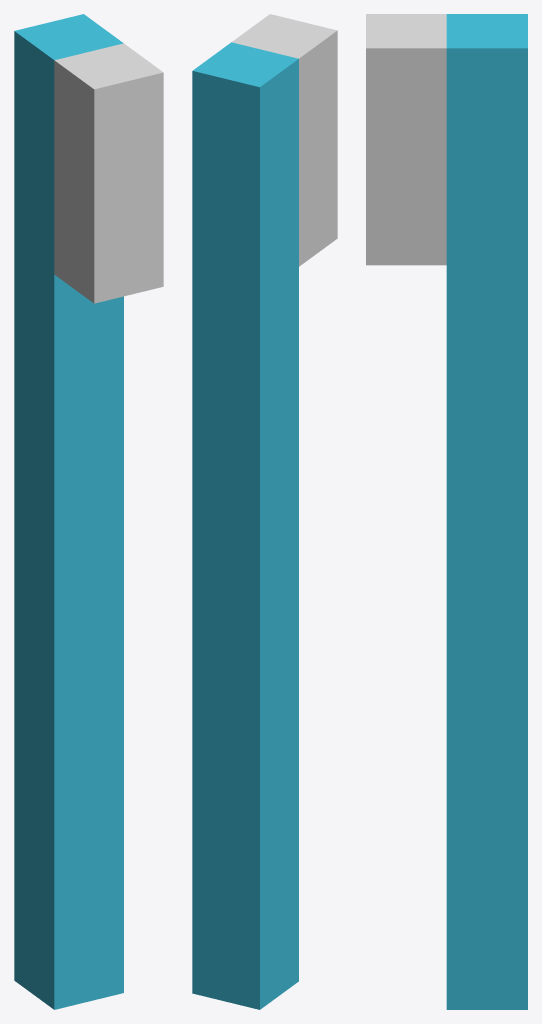
The model's file is Toothbrush.glb.
The picture shows the model from 3 angles, left to right: view 1: azimuth 30°, elevation 25°; view 2: azimuth 150°, elevation 25°; view 3: azimuth 270°, elevation 25°; orthographic projection. The views are drawn at different scales.
Parts seen in each view (by area): view 1: Cube; view 2: Cube; view 3: Cube.
Part boxes in pixels (left/top/right/bottom): Cube: left=14, top=14, right=163, bottom=1009; Cube: left=192, top=14, right=337, bottom=1009; Cube: left=366, top=14, right=527, bottom=1009.
Size of the model in its own units: 0.02 by 0.2612 by 0.0398.
